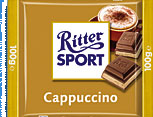grozi_116: (0, 0, 152, 116)
